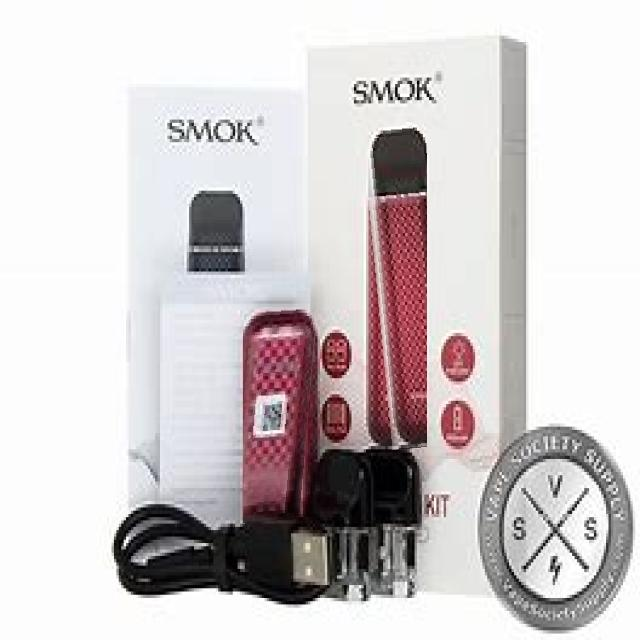Vapes: (362, 122, 428, 450), (243, 309, 318, 524)
